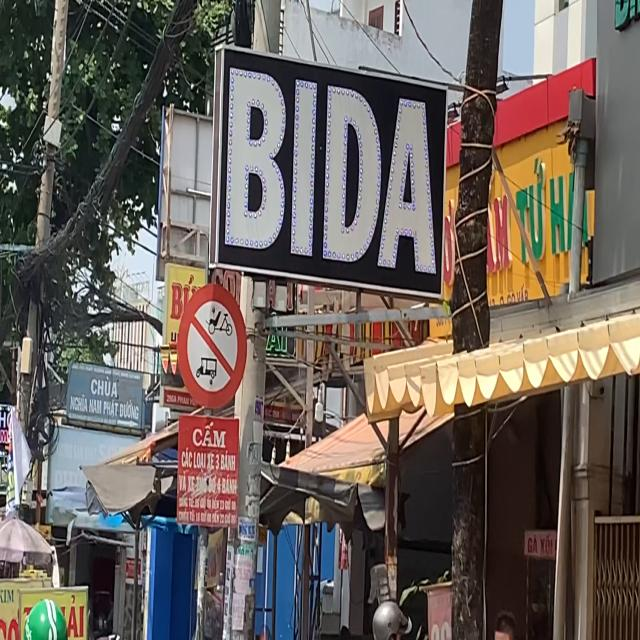Cam con lai: (179, 282, 248, 412)
